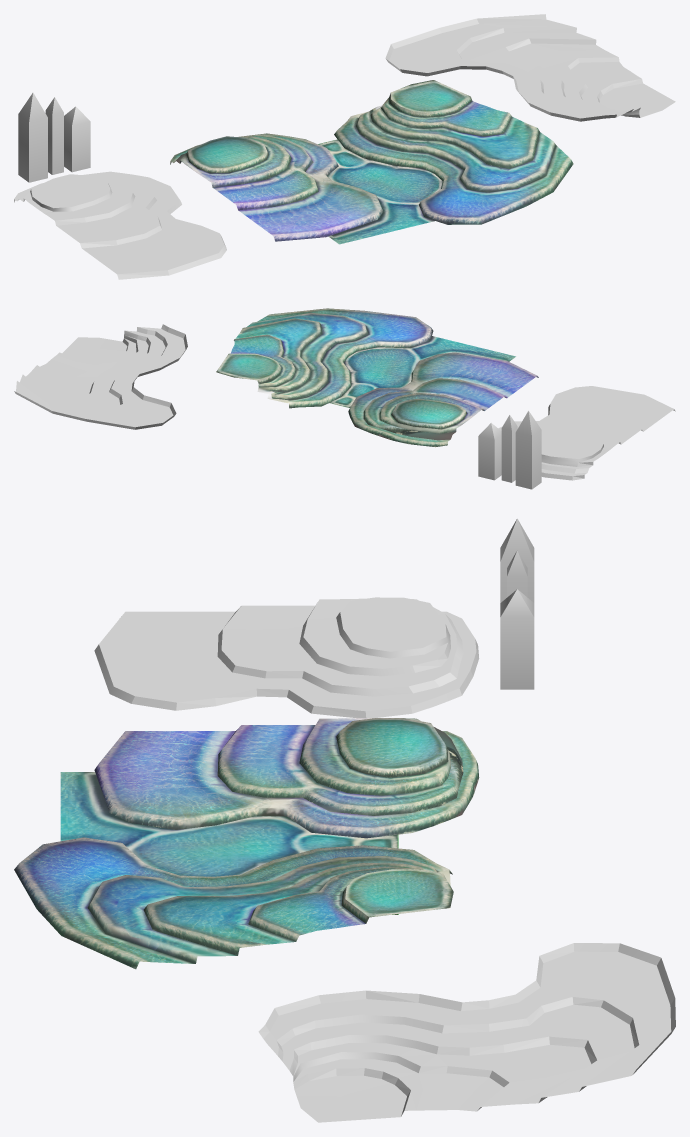
Rendered from stage_third4.FBX.
3 renders of one model, top to bottom at view 1: azimuth 30°, elevation 25°; view 2: azimuth 150°, elevation 25°; view 3: azimuth 270°, elevation 25°, orthographic. The views are drawn at different scales.
Visible parts, largest first — view 1: Cylinder002, Cylinder001, オブジェクト005, オブジェクト001, Plane002, オブジェクト006, オブジェクト007, オブジェクト002, オブジェクト008, オブジェクト010, Box001, オブジェクト009 (+3 smaller); view 2: Cylinder002, Cylinder001, オブジェクト001, オブジェクト005, Plane002, オブジェクト006, オブジェクト002, オブジェクト007, Box001, オブジェクト010, オブジェクト008, オブジェクト009 (+3 smaller); view 3: Cylinder002, Cylinder001, オブジェクト001, オブジェクト005, Plane002, オブジェクト002, オブジェクト006, オブジェクト007, オブジェクト010, オブジェクト003, オブジェクト009, オブジェクト008 (+2 smaller).
Boxes of the visible parts, left/top/right/bottom form: Cylinder002: left=385, top=14, right=675, bottom=121; Cylinder001: left=14, top=171, right=226, bottom=279; オブジェクト005: left=334, top=111, right=573, bottom=224; オブジェクト001: left=170, top=133, right=383, bottom=241; Plane002: left=318, top=139, right=442, bottom=244; オブジェクト006: left=356, top=105, right=556, bottom=192; オブジェクト007: left=370, top=106, right=539, bottom=168; オブジェクト002: left=175, top=135, right=318, bottom=210; オブジェクト008: left=381, top=97, right=511, bottom=136; オブジェクト010: left=186, top=136, right=268, bottom=173; Box001: left=18, top=92, right=47, bottom=182; オブジェクト009: left=389, top=80, right=472, bottom=117; Cylinder002: left=14, top=324, right=187, bottom=429; Cylinder001: left=498, top=386, right=675, bottom=480; オブジェクト001: left=348, top=352, right=538, bottom=447; オブジェクト005: left=257, top=308, right=433, bottom=408; Plane002: left=329, top=336, right=515, bottom=407; オブジェクト006: left=246, top=312, right=368, bottom=400; オブジェクト002: left=363, top=378, right=506, bottom=440; オブジェクト007: left=235, top=318, right=322, bottom=392; Box001: left=515, top=411, right=541, bottom=489; オブジェクト010: left=391, top=398, right=466, bottom=429; オブジェクト008: left=230, top=334, right=296, bottom=387; オブジェクト009: left=216, top=353, right=281, bottom=383; Cylinder002: left=258, top=943, right=675, bottom=1122; Cylinder001: left=94, top=597, right=479, bottom=717; オブジェクト001: left=94, top=731, right=479, bottom=838; オブジェクト005: left=14, top=837, right=452, bottom=969; Plane002: left=60, top=772, right=398, bottom=914; オブジェクト002: left=217, top=725, right=463, bottom=815; オブジェクト006: left=87, top=855, right=437, bottom=963; オブジェクト007: left=143, top=862, right=422, bottom=955; オブジェクト010: left=336, top=718, right=448, bottom=777; オブジェクト003: left=299, top=718, right=450, bottom=795; オブジェクト009: left=341, top=869, right=453, bottom=923; オブジェクト008: left=248, top=866, right=423, bottom=941.
Bounding box in the file's own units: 332 × 53.13 × 196.
